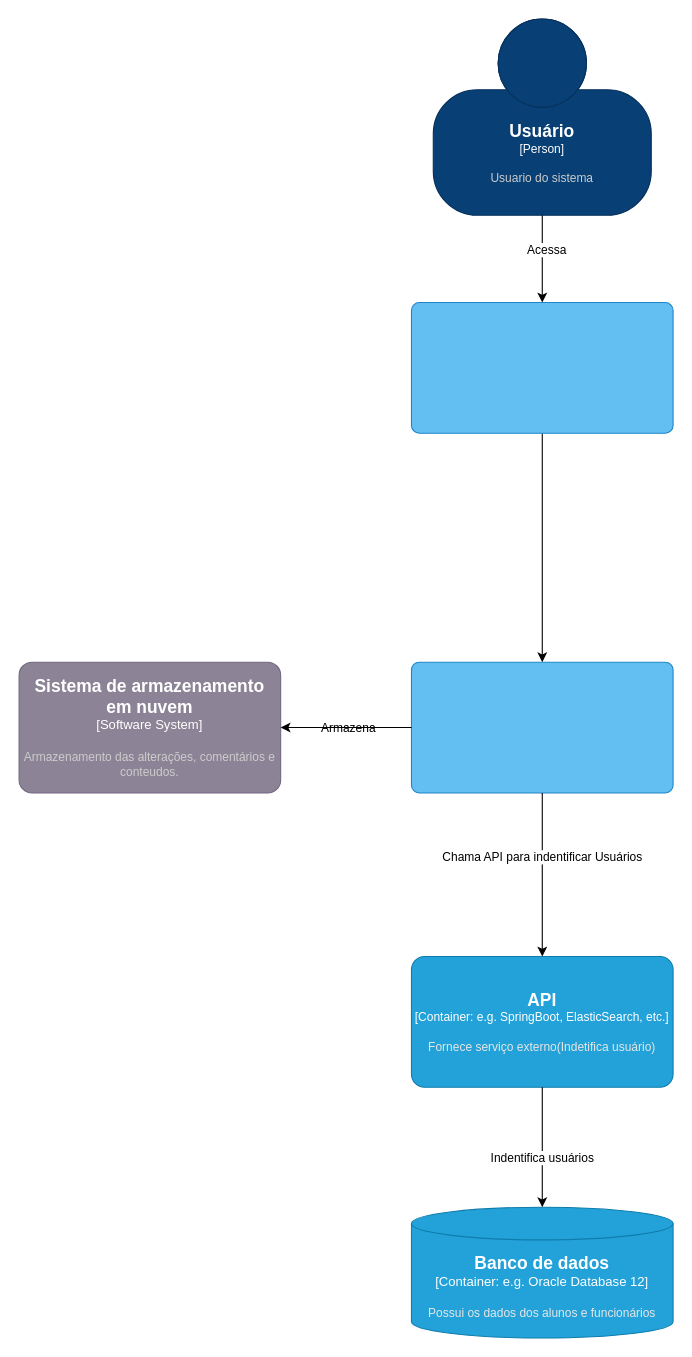
Some shapes in this 692 by 1357 pixel diagram are drawn without their labels. The box of each missing label's shape, as (x1, y1, x2, y2) in pixels:
QuizzMasterClass [: Software System] Aplicativo móvel: (410, 301, 673, 433)
QuizzMasterClass [: Software System] App de cunho e-learning com suporte: (410, 661, 673, 793)
